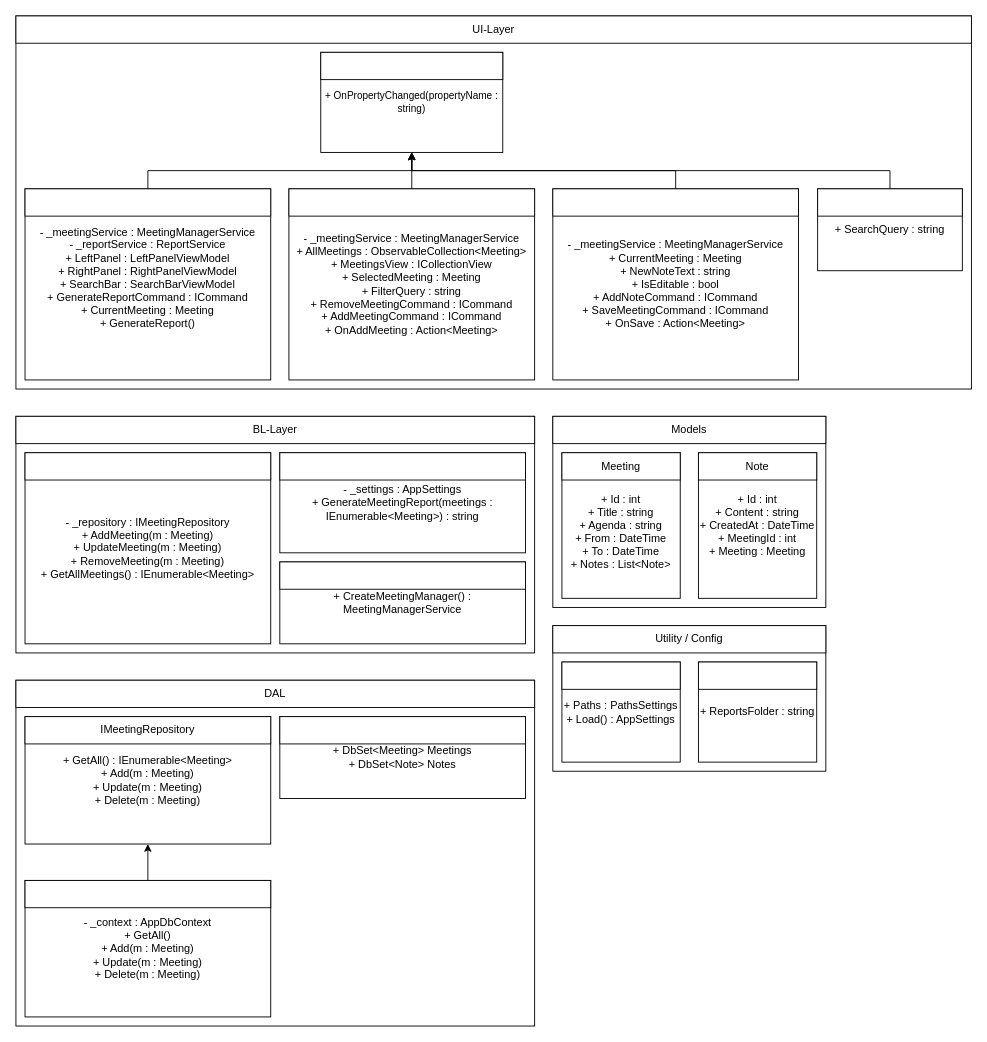
This 987x1042 diagram has some shape labels left out. Each missing label, with the centre of its shape:
AppDbContext: pixel 402 730
AppSettings: pixel 620 675
BaseViewModel: pixel 411 65
LeftPanelViewModel: pixel 411 202
MainViewModel: pixel 147 202
MeetingManagerService: pixel 147 466
MeetingRepository: pixel 147 894
PathsSettings: pixel 757 675
ReportService: pixel 402 466
RightPanelViewModel: pixel 675 202
SearchBarViewModel: pixel 889 202
ServiceFactory: pixel 402 575
